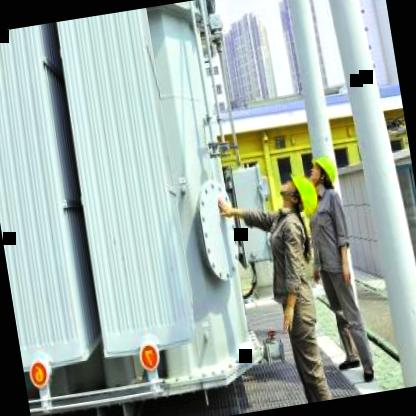helmet: (277, 170, 319, 220), (305, 148, 340, 200)
